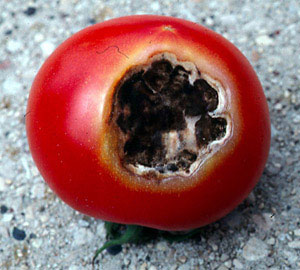blossom_rotw: (77, 41, 253, 190)
